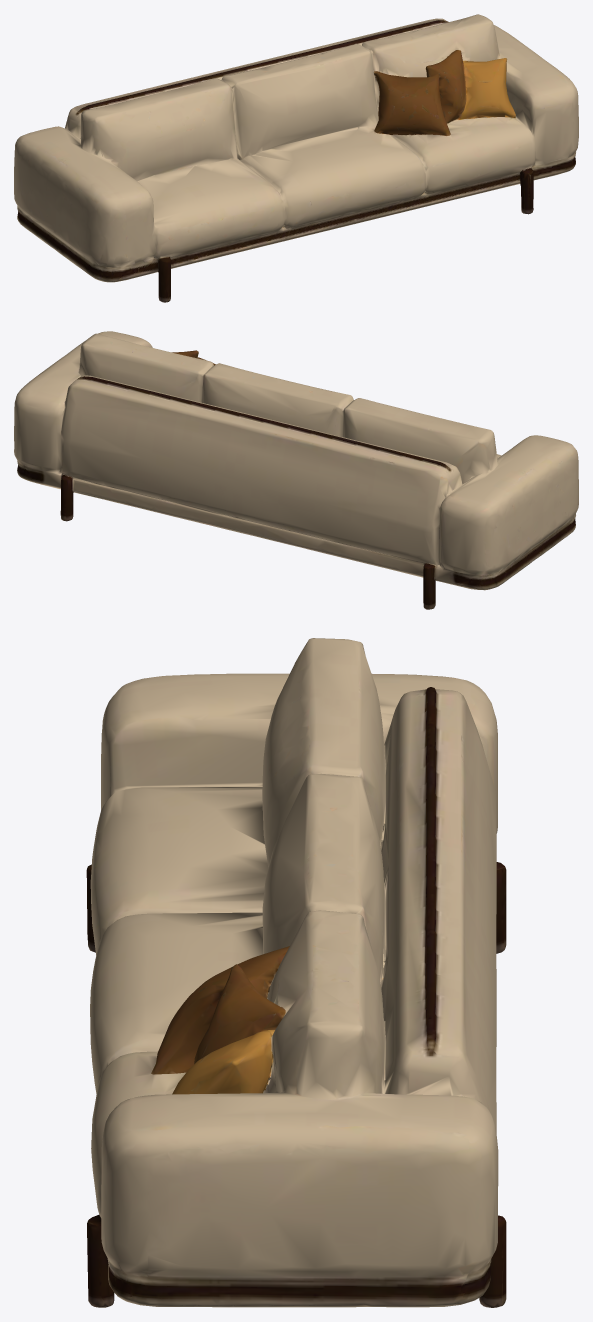
The model's file is designer-sofa.glb.
3 renders of one model, top to bottom at view 1: azimuth 30°, elevation 25°; view 2: azimuth 150°, elevation 25°; view 3: azimuth 270°, elevation 25°, orthographic. The views are drawn at different scales.
Parts seen in each view (by area): view 1: geometry_0; view 2: geometry_0; view 3: geometry_0.
Part boxes in pixels (x1,y1,x2,y2): geometry_0: [14, 14, 578, 302]; geometry_0: [14, 331, 578, 609]; geometry_0: [86, 638, 506, 1307].
Size of the model in its own units: 1 by 0.2933 by 0.3741.
Materials: 1 (1 with a texture image).
